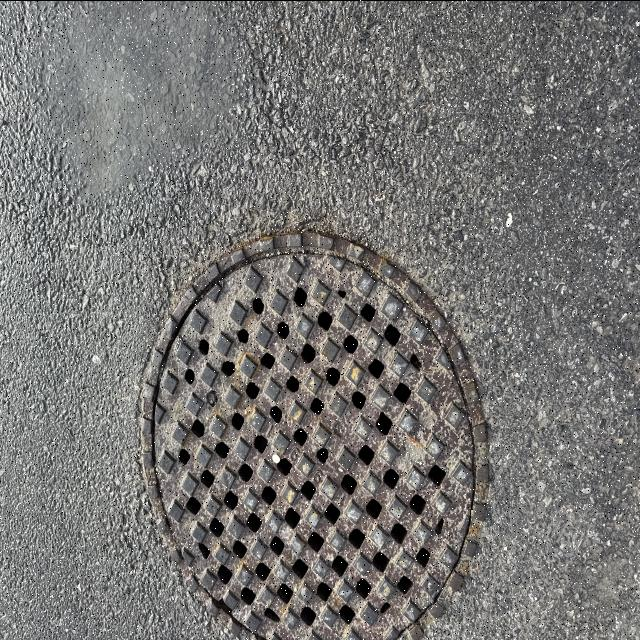Manhole: (140, 225, 493, 638)
